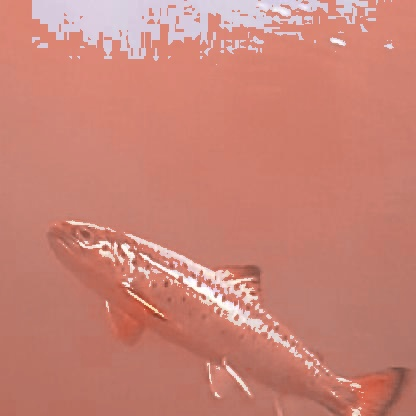salmon: (42, 213, 407, 413)
